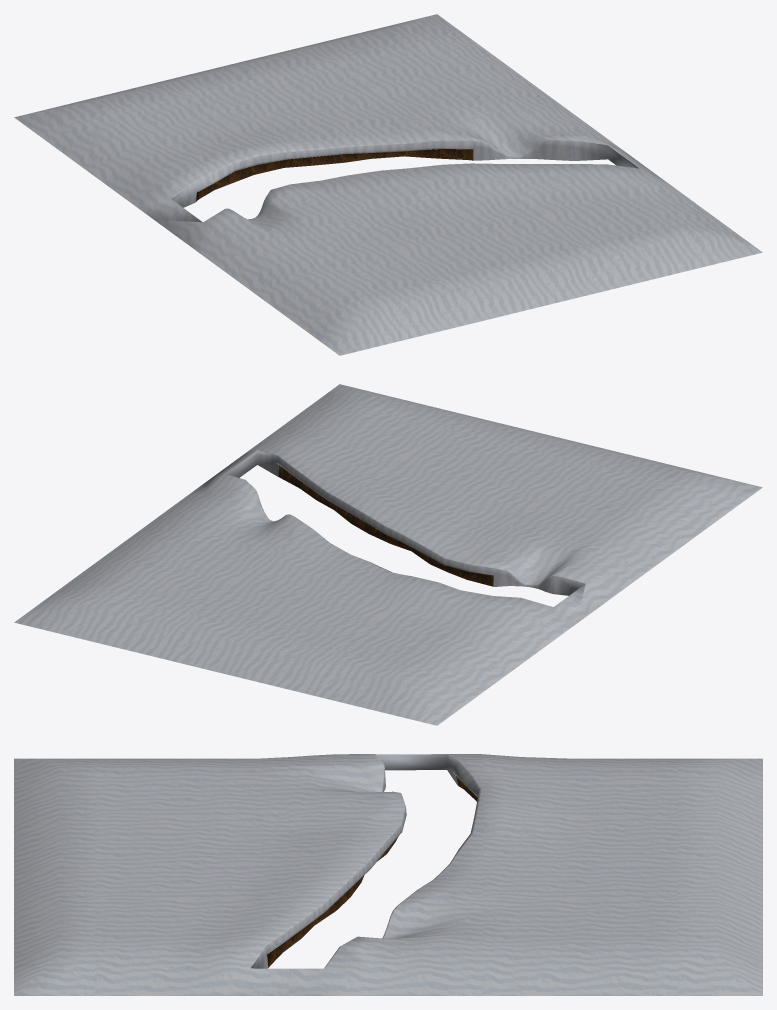
File: Floor.gltf
The picture shows the model from 3 angles, top to bottom: view 1: azimuth 30°, elevation 25°; view 2: azimuth 150°, elevation 25°; view 3: azimuth 270°, elevation 25°; orthographic projection. The views are drawn at different scales.
Visible parts, largest first — view 1: Floor; view 2: Floor; view 3: Floor.
Boxes of the visible parts, bbox=[...] form: Floor: bbox=[14, 14, 762, 355]; Floor: bbox=[14, 384, 762, 725]; Floor: bbox=[14, 754, 762, 995].
Size of what is drawn, in the model's own units: 47.52 by 2.56 by 63.36.
2 materials, 2 textured.
